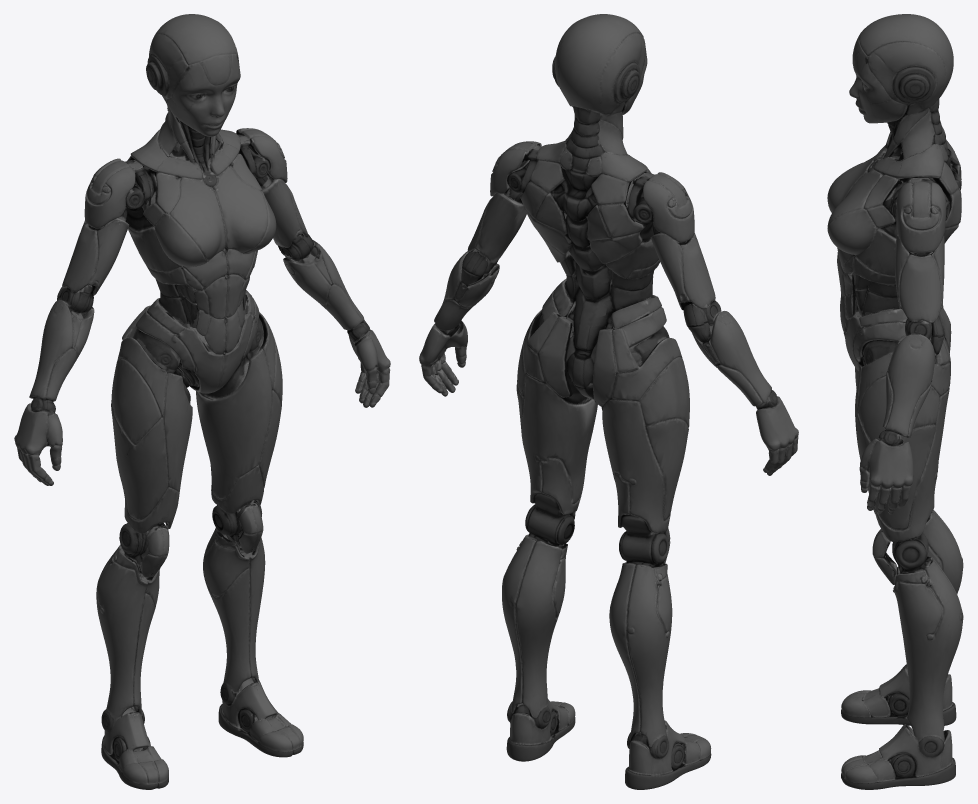
File: android-recolor(1).glb
3 renders of one model, left to right at view 1: azimuth 30°, elevation 25°; view 2: azimuth 150°, elevation 25°; view 3: azimuth 270°, elevation 25°, orthographic.
Parts seen in each view (by area): view 1: android; view 2: android; view 3: android.
Part boxes in pixels (box(x1,y1,x2,y2)): android: box(14, 14, 390, 789); android: box(419, 14, 798, 789); android: box(827, 14, 963, 789).
Bounding box in the file's own units: 0.9133 × 1.75 × 0.2955.
Materials: 1 (1 with a texture image).
